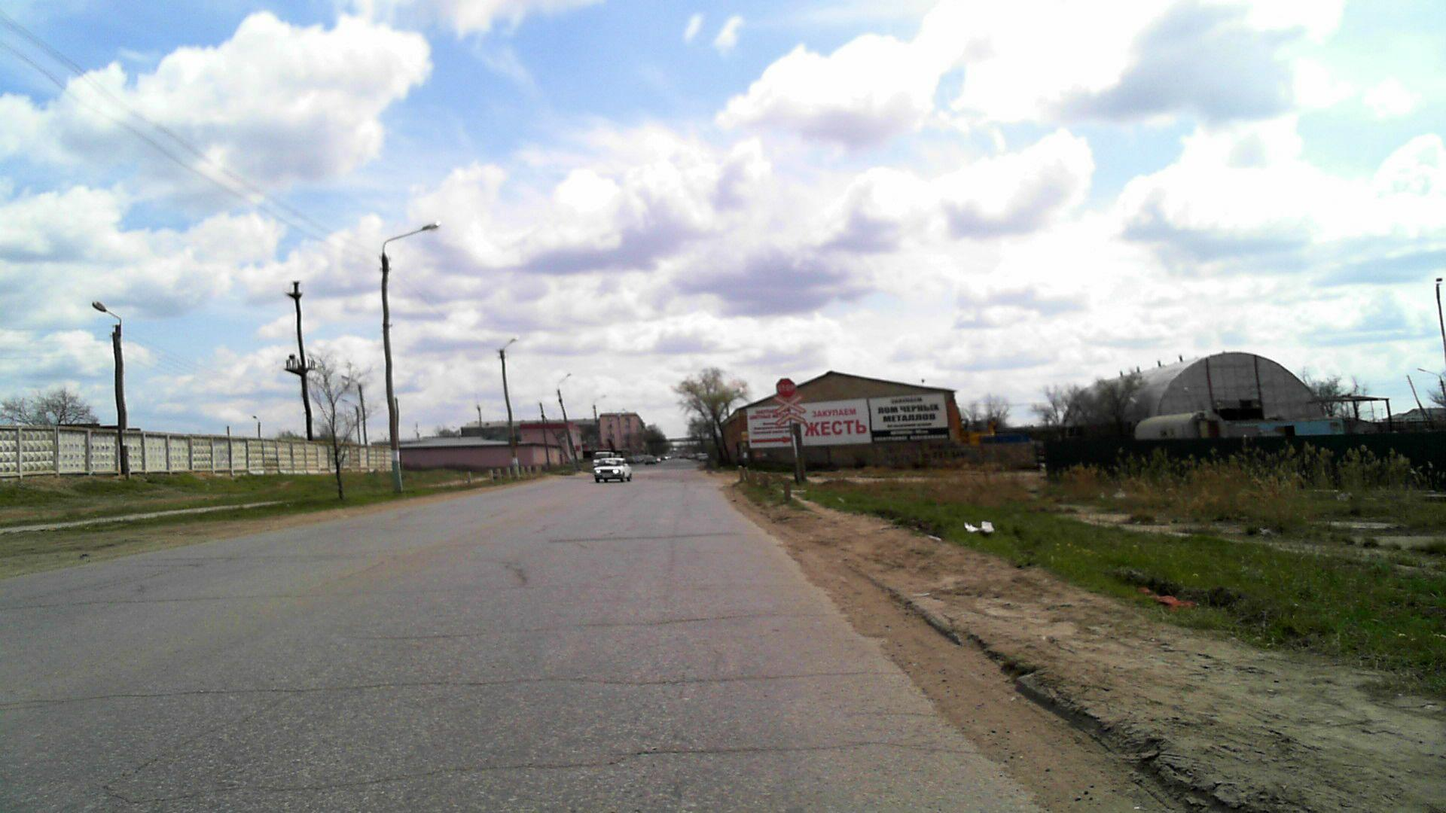road_sign: (775, 377, 796, 398)
